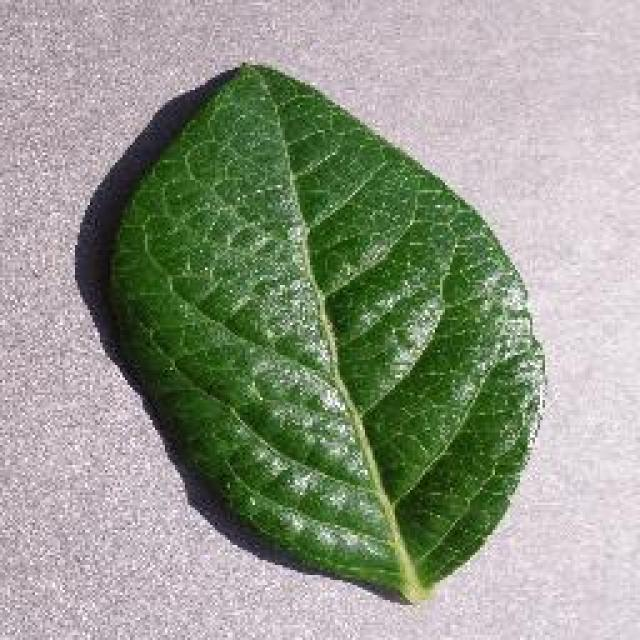healthy: (110, 65, 542, 600)
